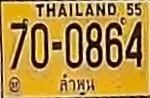0: (30, 22, 48, 68), (65, 22, 82, 67)
4: (125, 20, 141, 66)
6: (105, 22, 122, 67)
7: (11, 22, 28, 68)
8: (85, 22, 102, 67)
LPN: (57, 72, 97, 96)
